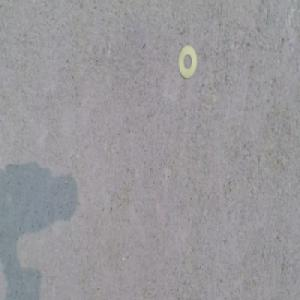Washer: (177, 46, 197, 77)
